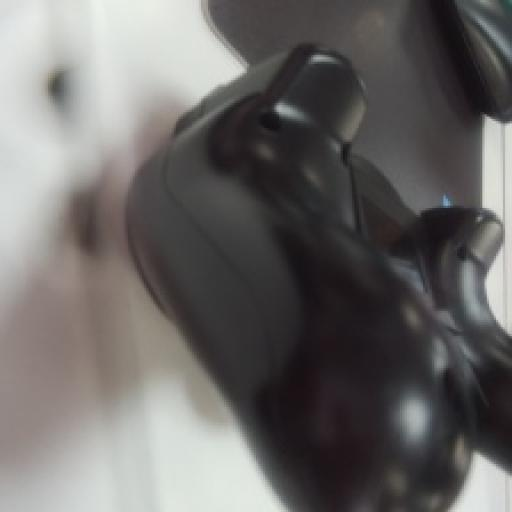game pad: (126, 46, 510, 510)
